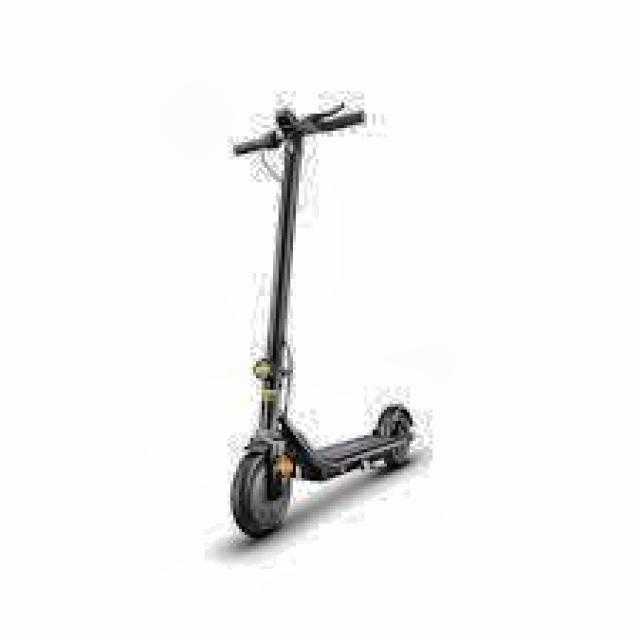bike: (223, 86, 428, 540)
